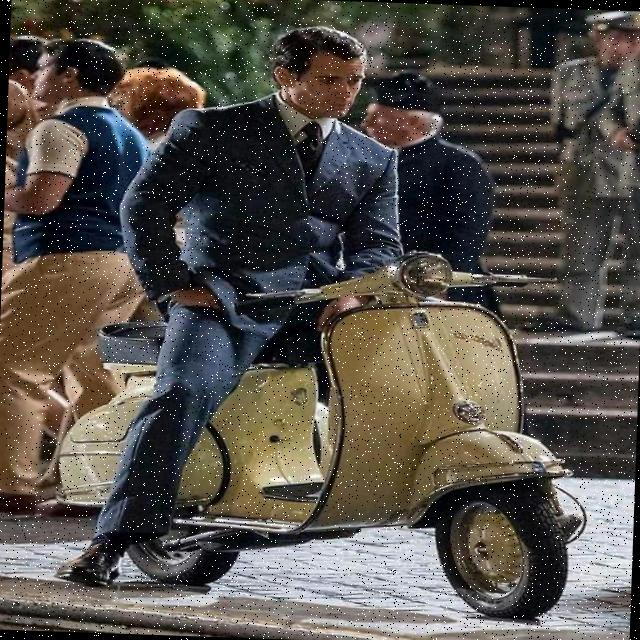No helmet: (268, 23, 360, 120)
